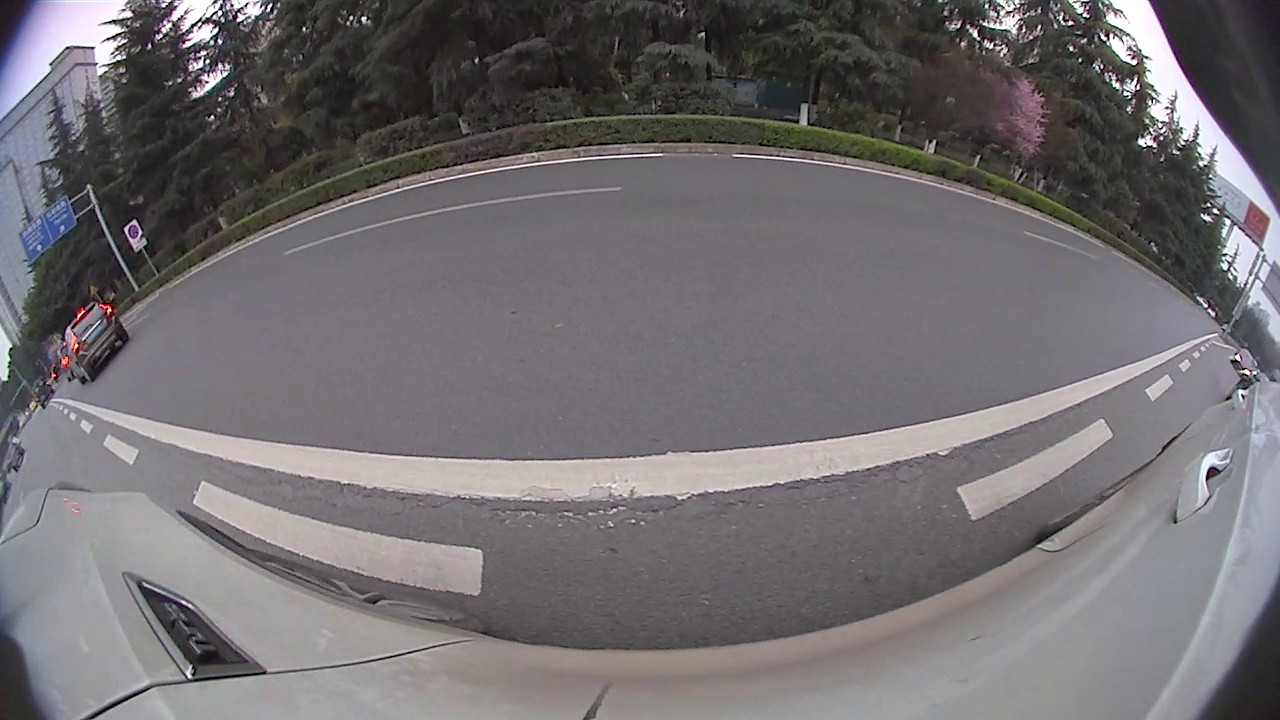bus: (758, 0, 1279, 438)
car: (0, 249, 213, 544), (550, 100, 784, 263), (360, 154, 519, 243), (542, 162, 555, 195)
front: (32, 357, 184, 542), (506, 186, 518, 212)
rear: (980, 238, 1078, 349), (458, 195, 476, 232)
